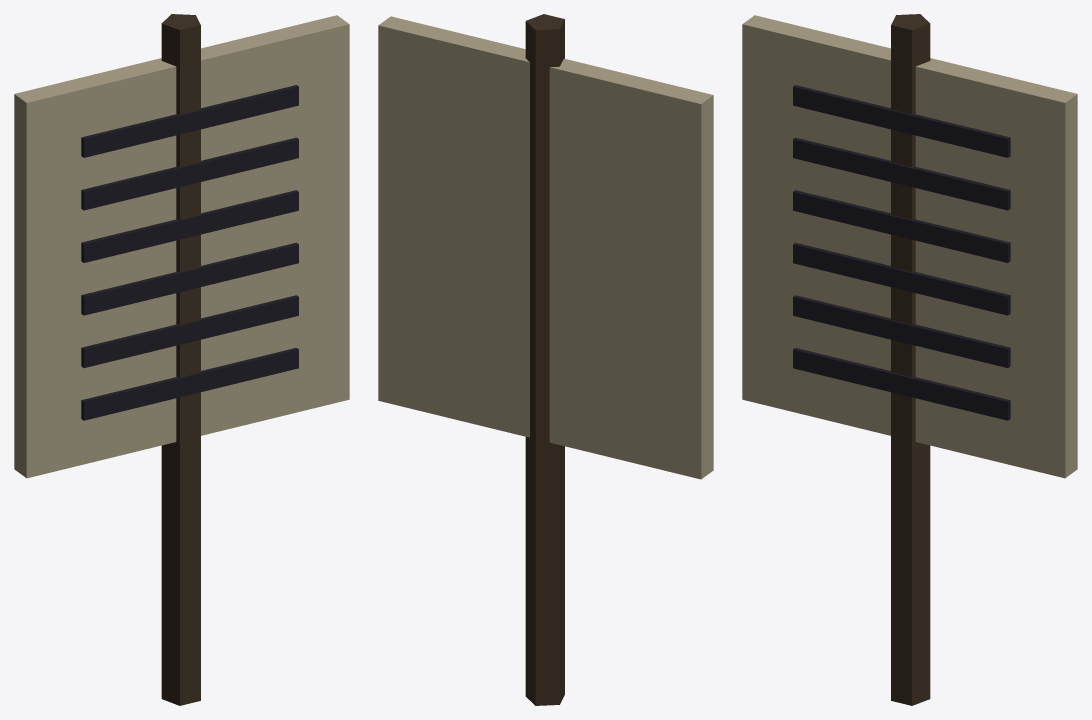
The model's file is s2_number_board.glb.
3 renders of one model, left to right at view 1: azimuth 30°, elevation 25°; view 2: azimuth 150°, elevation 25°; view 3: azimuth 330°, elevation 25°, orthographic.
Visible parts, largest first — view 1: s2_number_board; view 2: s2_number_board; view 3: s2_number_board.
Boxes of the visible parts, x1,y1,x2,y2 form: s2_number_board: (14,14,349,705); s2_number_board: (378,14,713,705); s2_number_board: (742,14,1077,705).
Size of the model in its own units: 0.9 by 1.8 by 0.096.
